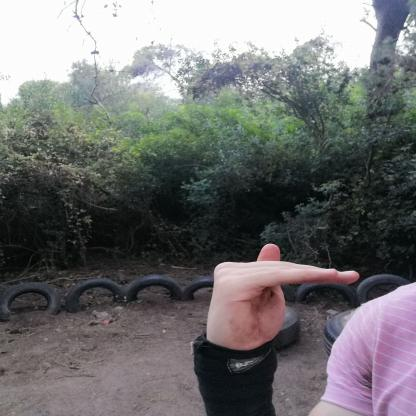KHAA: (184, 231, 384, 360)
